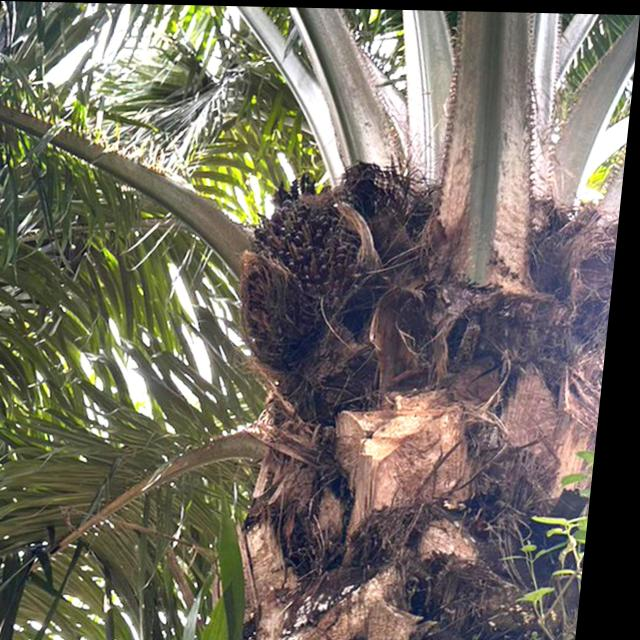unripe: (225, 184, 385, 370)
